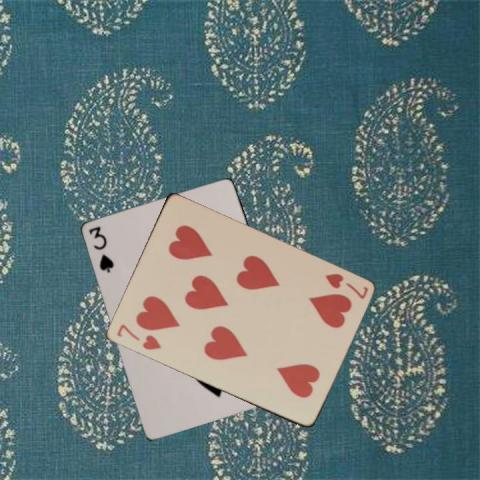3s: (86, 223, 116, 275)
7h: (113, 321, 162, 352), (322, 270, 370, 301)
